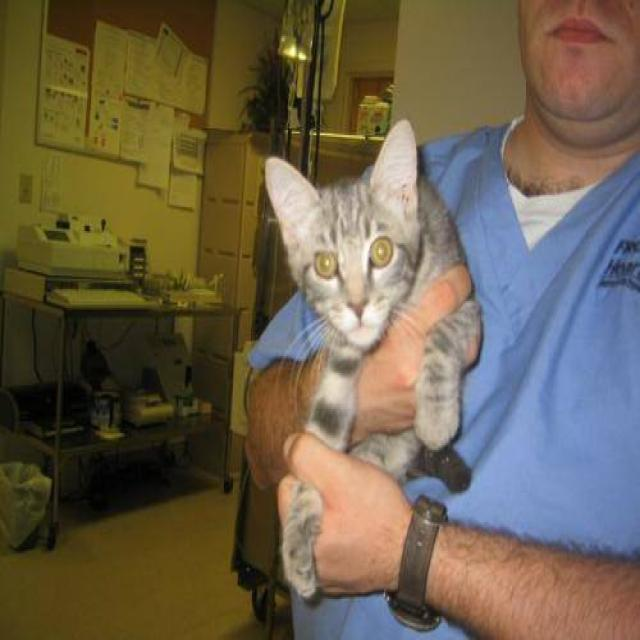cat: (262, 116, 482, 604)
